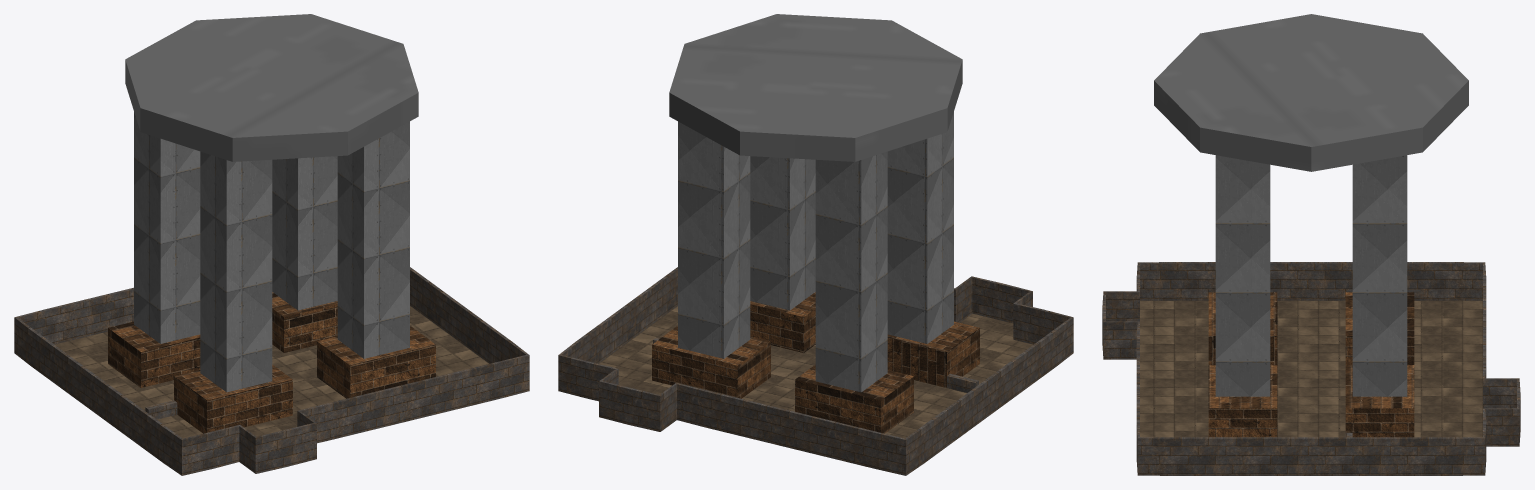
Rendered from bridge.glb.
3 renders of one model, left to right at view 1: azimuth 30°, elevation 25°; view 2: azimuth 150°, elevation 25°; view 3: azimuth 270°, elevation 25°, orthographic. The views are drawn at different scales.
Parts seen in each view (by area): view 1: BaseBridge, WallsIndoor, WallsOutdoor; view 2: BaseBridge, WallsIndoor, WallsOutdoor; view 3: BaseBridge, WallsIndoor, WallsOutdoor.
Boxes of the visible parts, <box> form: BaseBridge: <box>125,14,418,392</box>; WallsIndoor: <box>18,270,525,438</box>; WallsOutdoor: <box>14,267,529,475</box>; BaseBridge: <box>669,14,962,392</box>; WallsIndoor: <box>562,270,1069,438</box>; WallsOutdoor: <box>558,267,1073,475</box>; BaseBridge: <box>1154,14,1468,396</box>; WallsIndoor: <box>1106,263,1516,437</box>; WallsOutdoor: <box>1102,262,1520,475</box>.
Bounding box in the file's own units: 30.5 × 24.71 × 30.5.
Materials: 8 (8 with a texture image).
